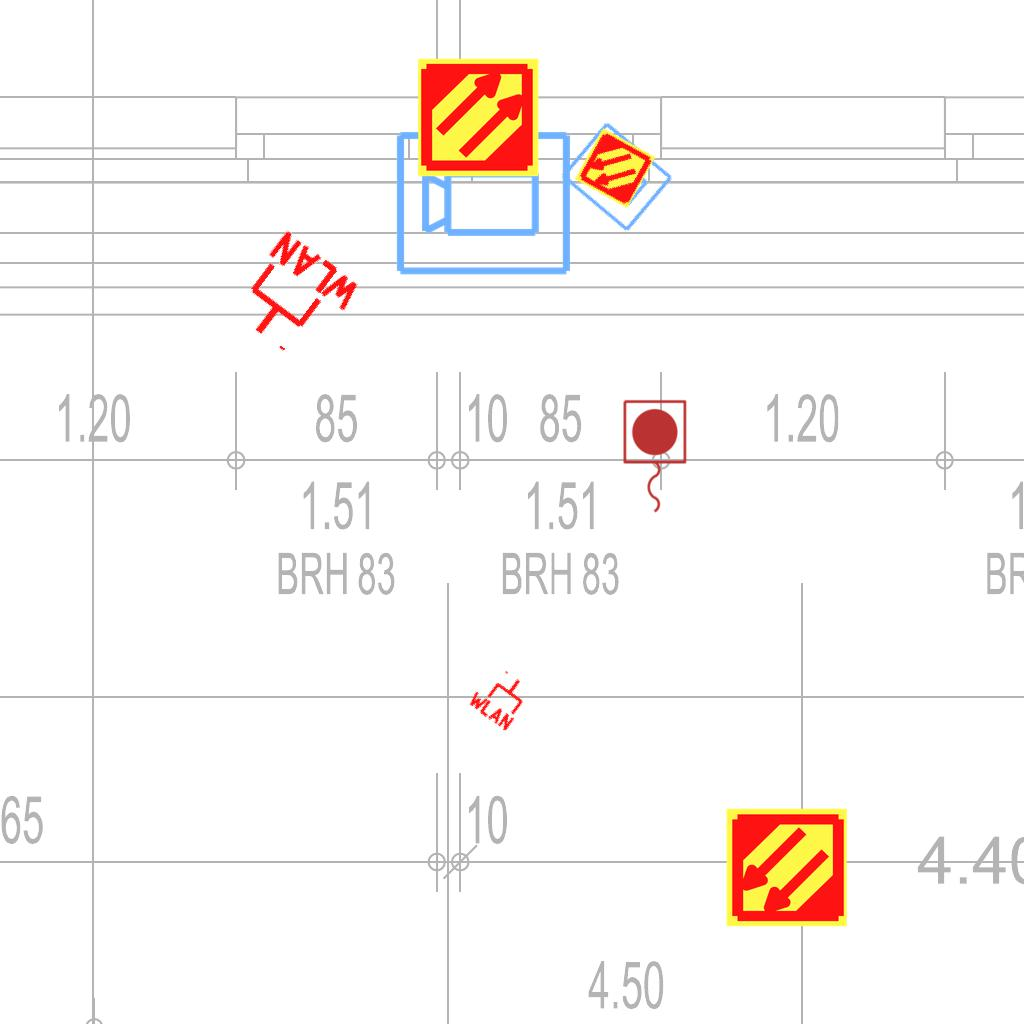ASR_Ansaugrauchmelder: (724, 805, 849, 930), (416, 55, 541, 180), (572, 125, 658, 211)
KFO_Kamera_mit_Festobjektiv: (393, 125, 575, 279), (557, 117, 678, 236)
WLAN: (221, 225, 368, 373), (464, 660, 538, 734)
Zugtaster: (618, 396, 690, 518)
